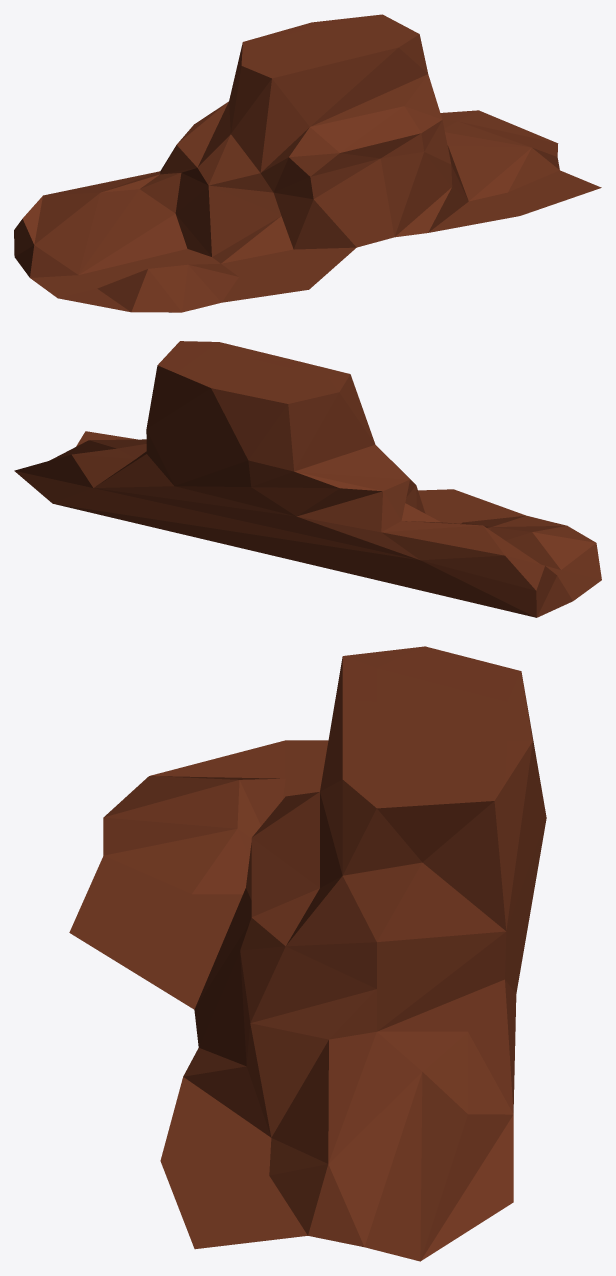
File: 03 Mountain_1.FBX.glb
3 views of the same model, one above another, from view 1: azimuth 30°, elevation 25°; view 2: azimuth 150°, elevation 25°; view 3: azimuth 270°, elevation 25° (orthographic). The views are drawn at different scales.
Visible parts, largest first — view 1: Mountain_1.1; view 2: Mountain_1.1; view 3: Mountain_1.1.
Part boxes in pixels (x1,y1,x2,y2): Mountain_1.1: (14,14,601,312); Mountain_1.1: (14,341,601,617); Mountain_1.1: (69,646,546,1261).
Bounding box in the file's own units: 6227 × 1715 × 2410.
